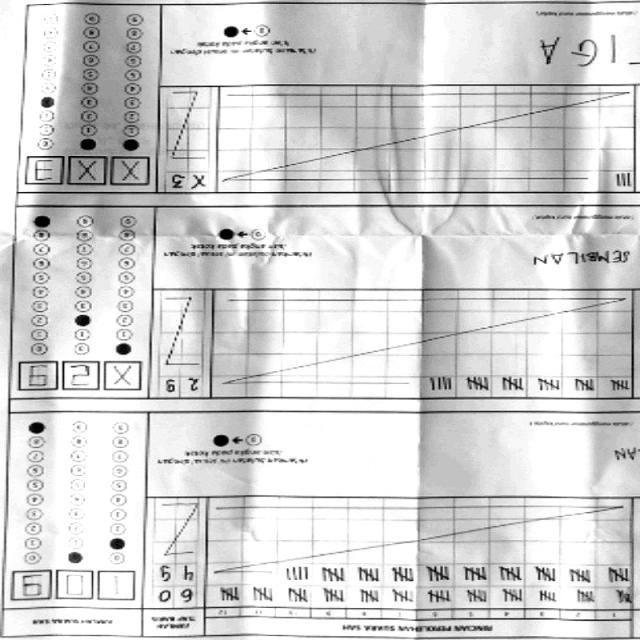Suara: (16, 358, 144, 398), (10, 568, 138, 606), (23, 154, 151, 192)
